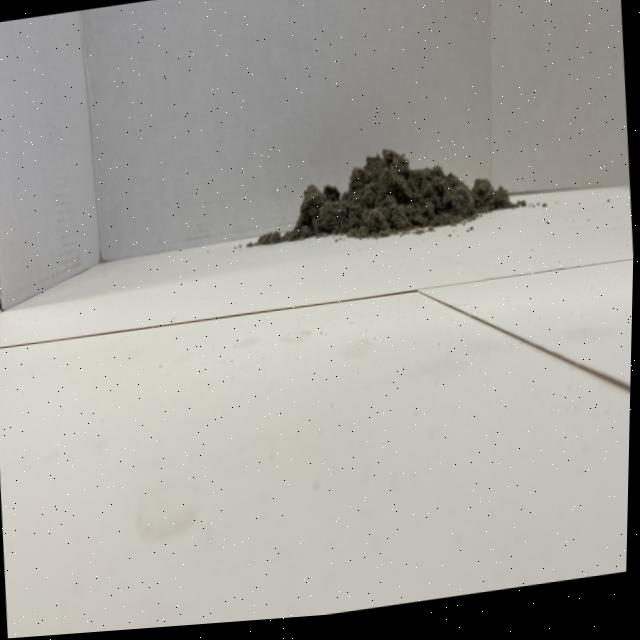sand: (267, 122, 507, 268)
